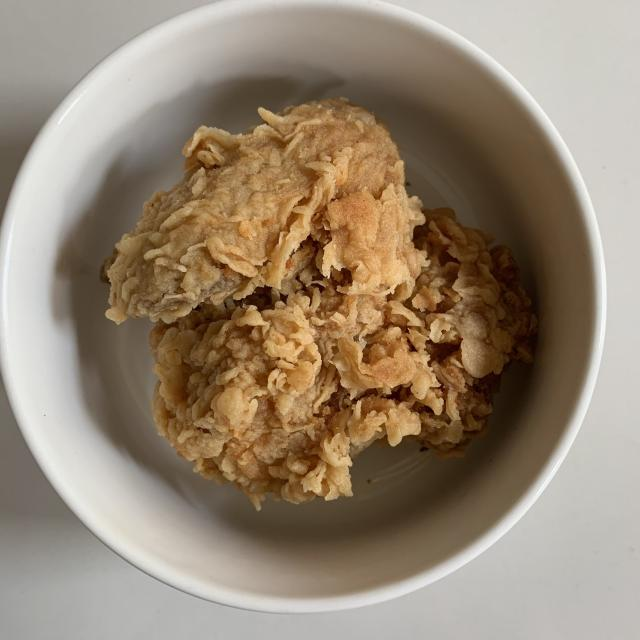Wet Waste: (102, 96, 540, 514)
